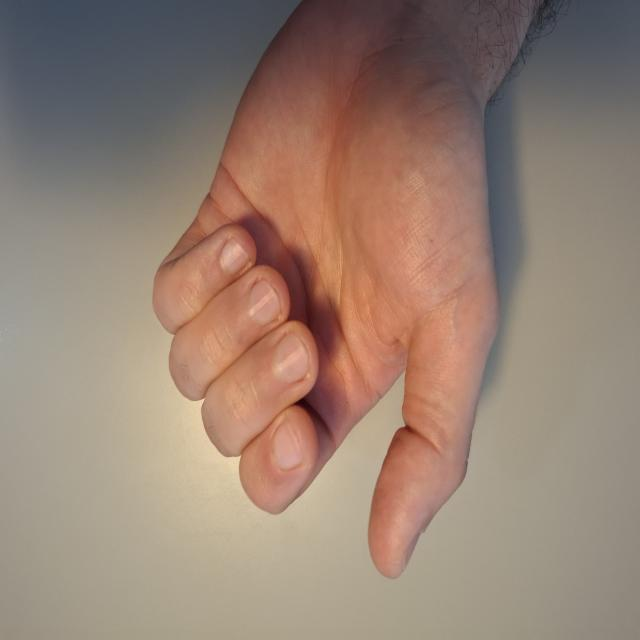glove_off: (150, 5, 504, 581)
